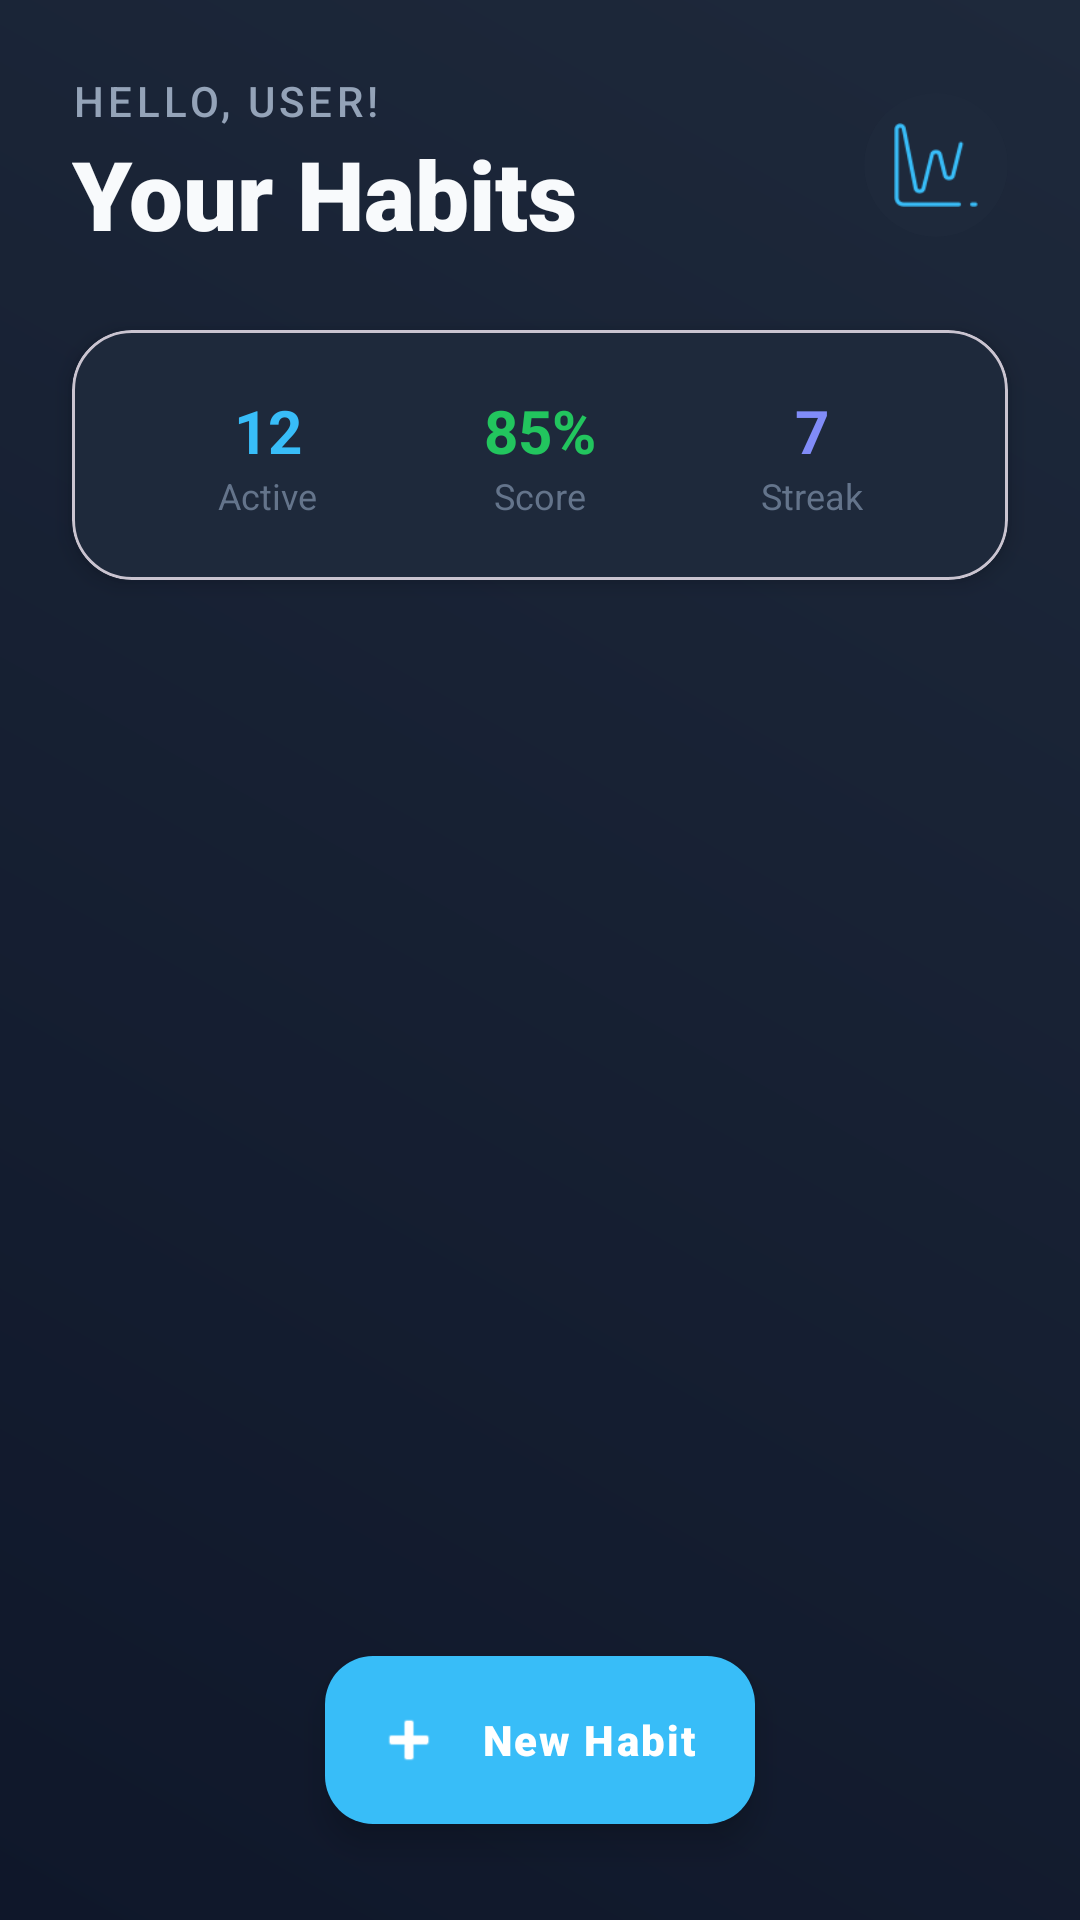

Icons on this 1080px x 1920px Android screen, each with its box as (x1, y1, x2, y2):
graph: (894, 123, 978, 207)
